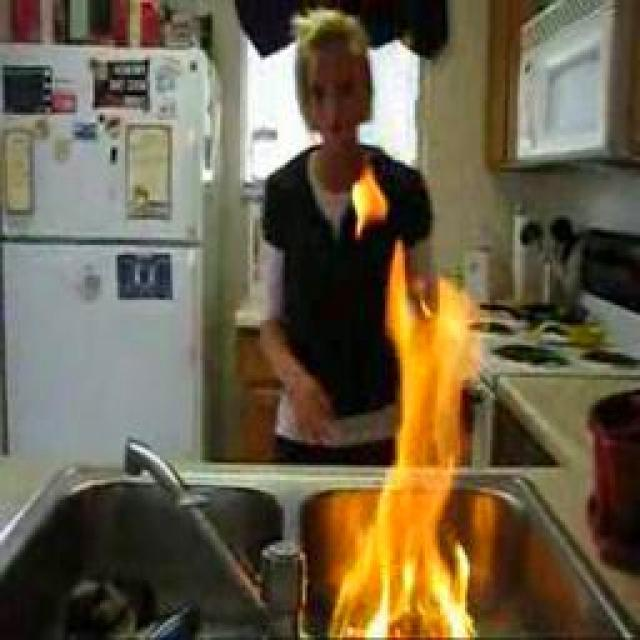Fire: (325, 245, 491, 640), (350, 173, 391, 226)
